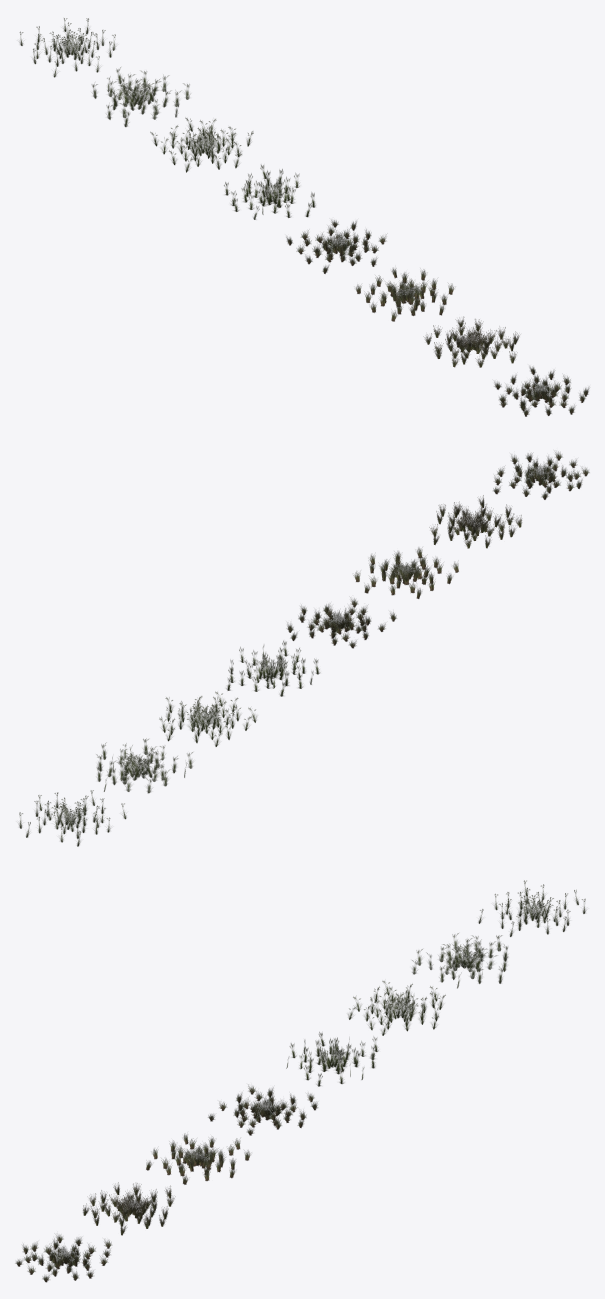
The model's file is GrassPatch-transformed.glb.
3 views of the same model, one above another, from view 1: azimuth 30°, elevation 25°; view 2: azimuth 150°, elevation 25°; view 3: azimuth 330°, elevation 25° (orthographic).
Parts seen in each view (by area): view 1: U3DMesh.001_grass01.001_0, U3DMesh.005_wheat.001_0, U3DMesh.006_wheat.002_0, U3DMesh.002_grass01.002_0, U3DMesh.003_grass01.003_0, U3DMesh_grass01_0, U3DMesh.004_wheat_0, U3DMesh.007_wheat.003_0; view 2: U3DMesh.001_grass01.001_0, U3DMesh.006_wheat.002_0, U3DMesh.005_wheat.001_0, U3DMesh.002_grass01.002_0, U3DMesh_grass01_0, U3DMesh.003_grass01.003_0, U3DMesh.004_wheat_0, U3DMesh.007_wheat.003_0; view 3: U3DMesh.001_grass01.001_0, U3DMesh.002_grass01.002_0, U3DMesh.005_wheat.001_0, U3DMesh.006_wheat.002_0, U3DMesh.003_grass01.003_0, U3DMesh_grass01_0, U3DMesh.004_wheat_0, U3DMesh.007_wheat.003_0.
Part boxes in pixels (x1,y1,x2,y2): U3DMesh.001_grass01.001_0: (423, 316, 519, 367); U3DMesh.005_wheat.001_0: (150, 117, 253, 172); U3DMesh.006_wheat.002_0: (92, 67, 189, 126); U3DMesh.002_grass01.002_0: (356, 268, 454, 321); U3DMesh.003_grass01.003_0: (286, 220, 386, 273); U3DMesh_grass01_0: (494, 366, 589, 416); U3DMesh.004_wheat_0: (224, 165, 315, 219); U3DMesh.007_wheat.003_0: (19, 18, 115, 77); U3DMesh.001_grass01.001_0: (429, 495, 521, 548); U3DMesh.006_wheat.002_0: (96, 738, 192, 793); U3DMesh.005_wheat.001_0: (159, 691, 256, 746); U3DMesh.002_grass01.002_0: (353, 547, 458, 598); U3DMesh_grass01_0: (493, 451, 589, 499); U3DMesh.003_grass01.003_0: (286, 597, 396, 648); U3DMesh.004_wheat_0: (226, 640, 320, 696); U3DMesh.007_wheat.003_0: (19, 790, 126, 846); U3DMesh.001_grass01.001_0: (83, 1182, 175, 1235); U3DMesh.002_grass01.002_0: (146, 1133, 250, 1184); U3DMesh.005_wheat.001_0: (348, 981, 445, 1035); U3DMesh.006_wheat.002_0: (412, 933, 508, 988); U3DMesh.003_grass01.003_0: (208, 1085, 317, 1135); U3DMesh_grass01_0: (15, 1235, 111, 1282); U3DMesh.004_wheat_0: (286, 1032, 378, 1086); U3DMesh.007_wheat.003_0: (478, 880, 586, 936).
Size of the model in its own units: 7.81 by 1.8 by 78.15.
8 materials, 8 textured.
